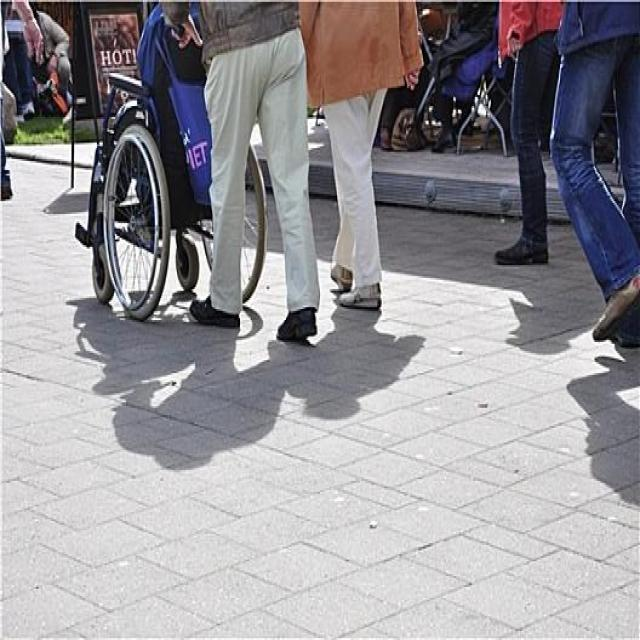wheelchairs: (68, 34, 278, 328)
